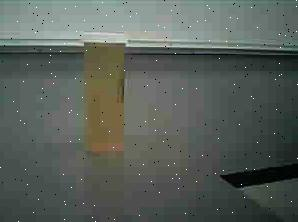Bottle A: (73, 23, 141, 178)
